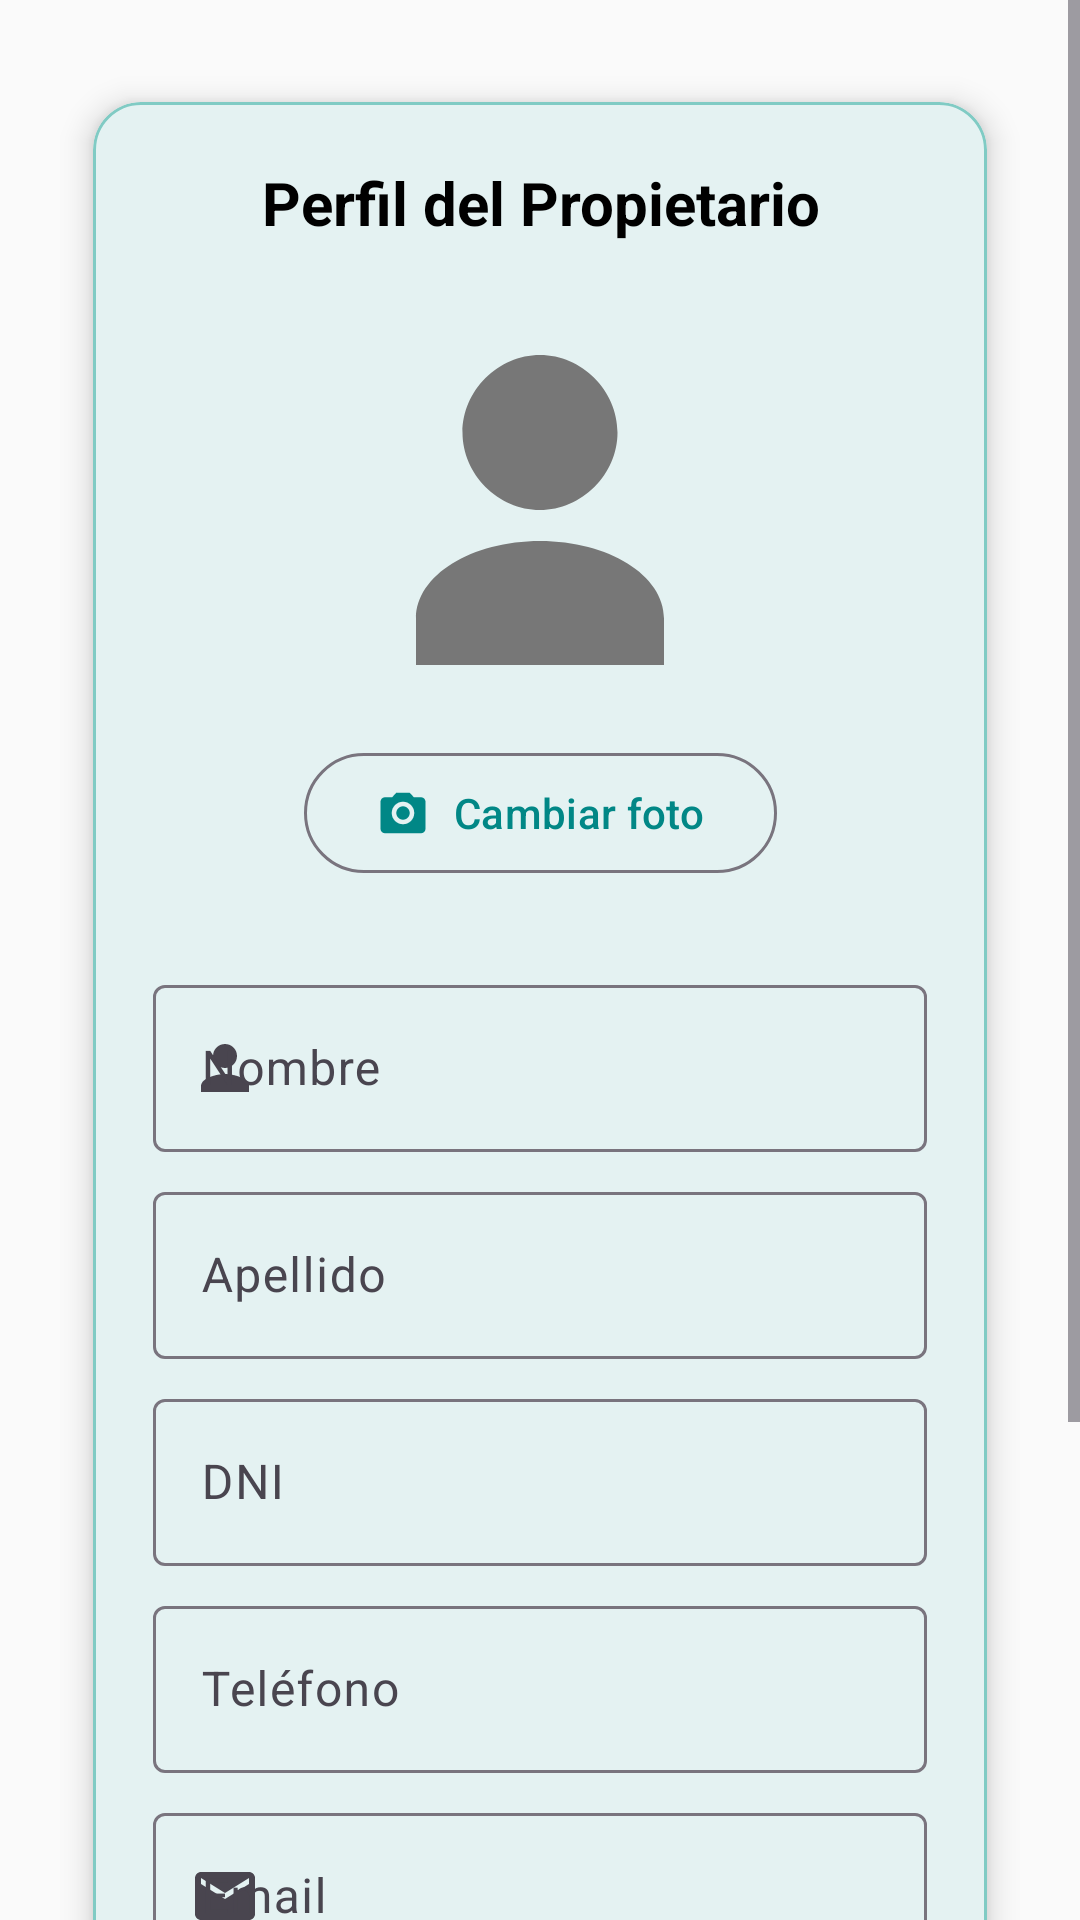

Screen size 1080 × 1920. Icon name, then its box in pixels as region(x1, y1, x2, y2):
Foto de perfil: region(416, 355, 664, 665)
